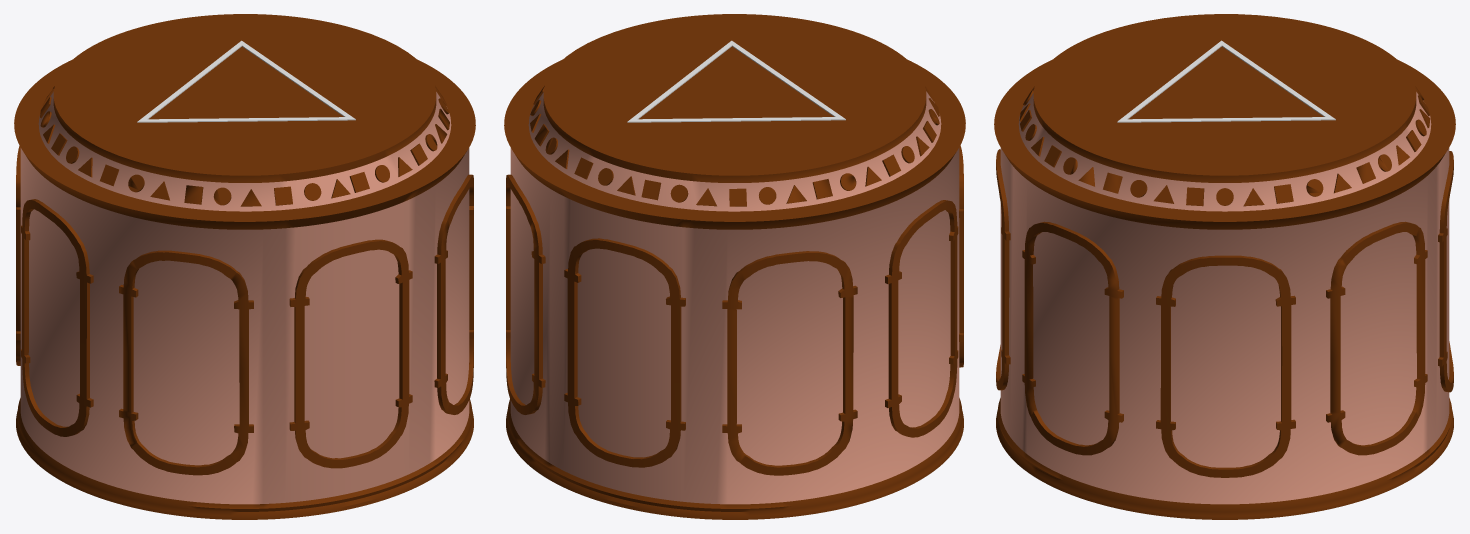
File: CarosellBase.fbx
The picture shows the model from 3 angles, left to right: view 1: azimuth 30°, elevation 25°; view 2: azimuth 150°, elevation 25°; view 3: azimuth 270°, elevation 25°; orthographic projection.
Parts seen in each view (by area): view 1: Carrousel; view 2: Carrousel; view 3: Carrousel.
Boxes of the visible parts, <box> form: Carrousel: <box>14,14,475,519</box>; Carrousel: <box>504,14,965,519</box>; Carrousel: <box>994,14,1455,519</box>.
Size of the model in its own units: 241 by 190 by 241.
